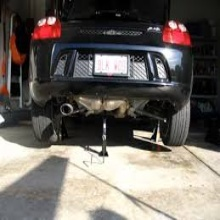no damage: (30, 6, 194, 148)
